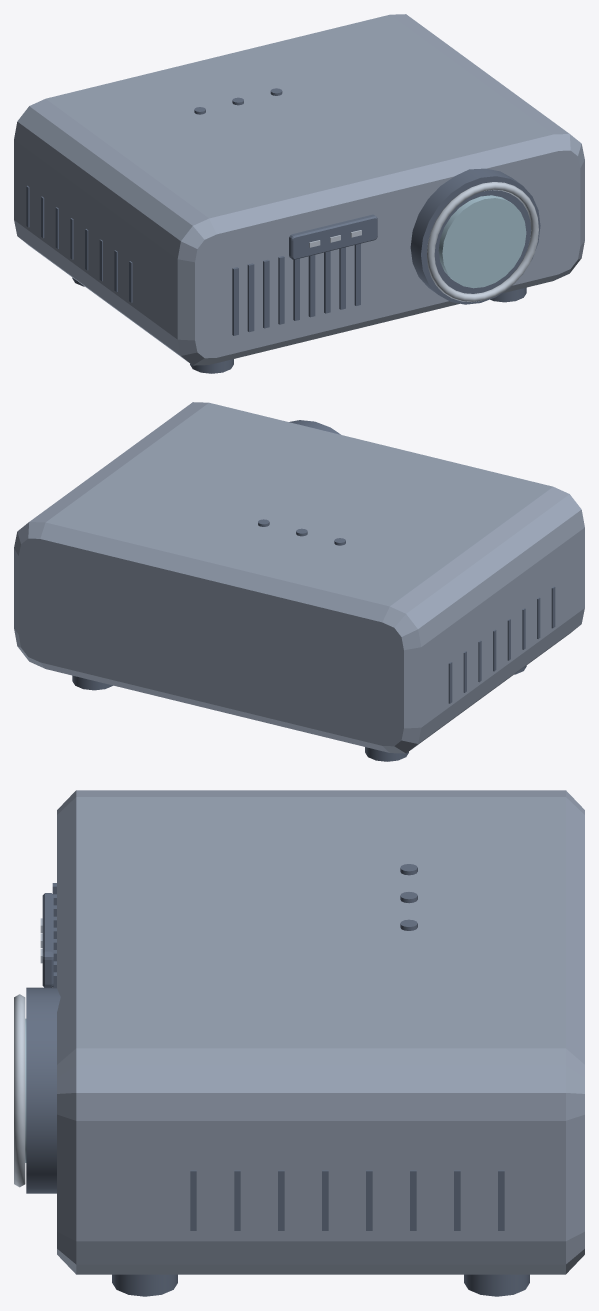
Rendered from projector-lite.glb.
3 renders of one model, top to bottom at view 1: azimuth 30°, elevation 25°; view 2: azimuth 150°, elevation 25°; view 3: azimuth 270°, elevation 25°, orthographic. The views are drawn at different scales.
Visible parts, largest first — view 1: body, dark, glass, light; view 2: body, dark; view 3: body, dark, light.
Boxes of the visible parts, x1=… form: body: x1=14, y1=14, x2=584, y2=365; dark: x1=26, y1=88, x2=540, y2=373; glass: x1=438, y1=195, x2=526, y2=288; light: x1=309, y1=182, x2=538, y2=302; body: x1=14, y1=402, x2=584, y2=753; dark: x1=72, y1=420, x2=555, y2=761; body: x1=57, y1=790, x2=584, y2=1274; dark: x1=26, y1=864, x2=529, y2=1296; light: x1=14, y1=918, x2=42, y2=1187.
Bounding box in the file's own units: 0.333 × 0.129 × 0.2596.
